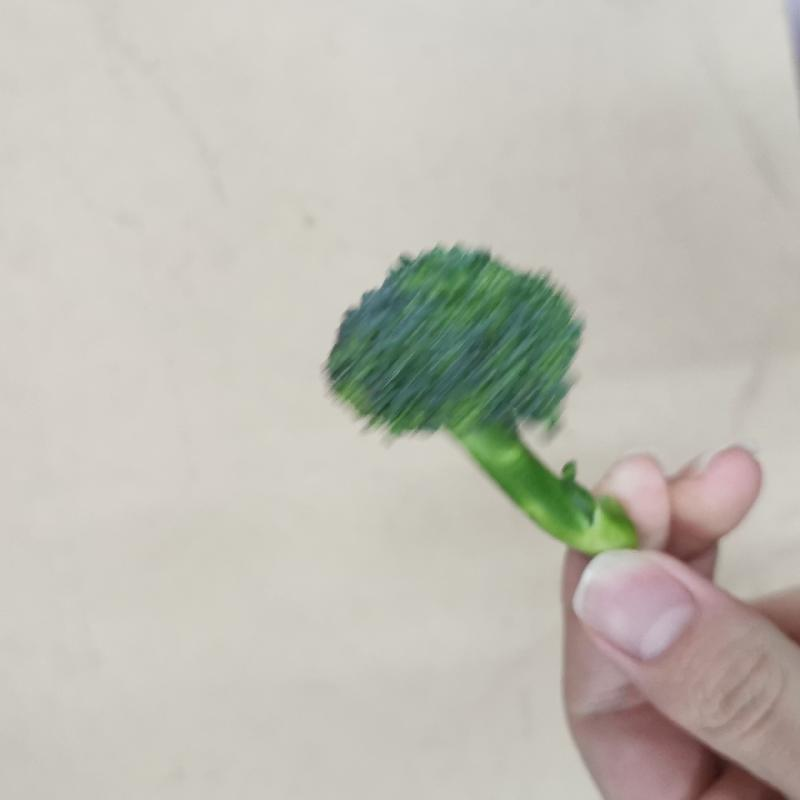broccoli: (319, 238, 649, 560)
